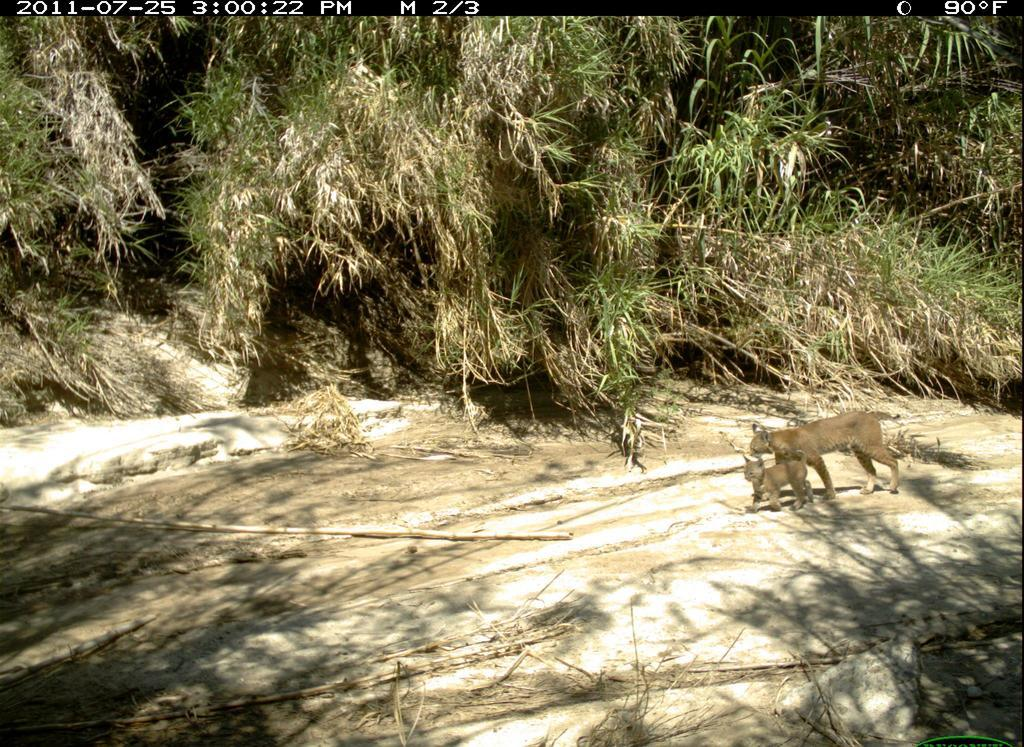bobcat: (744, 410, 914, 524), (736, 454, 823, 520)
